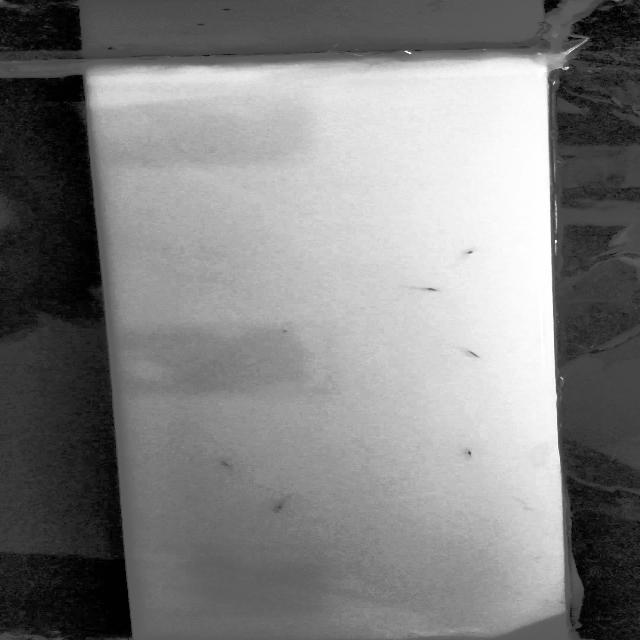shrimp: (270, 494, 300, 514), (402, 284, 451, 294), (461, 346, 492, 361), (216, 460, 249, 473), (453, 246, 479, 262), (460, 449, 473, 462)
